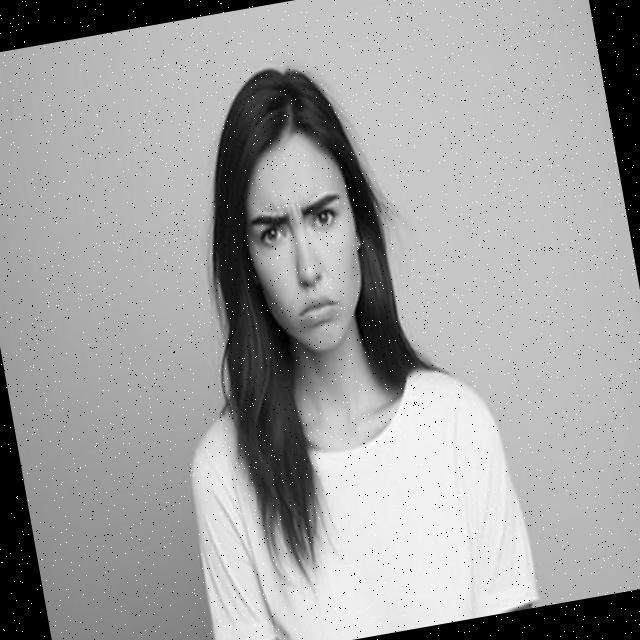Angry: (232, 138, 374, 360)
